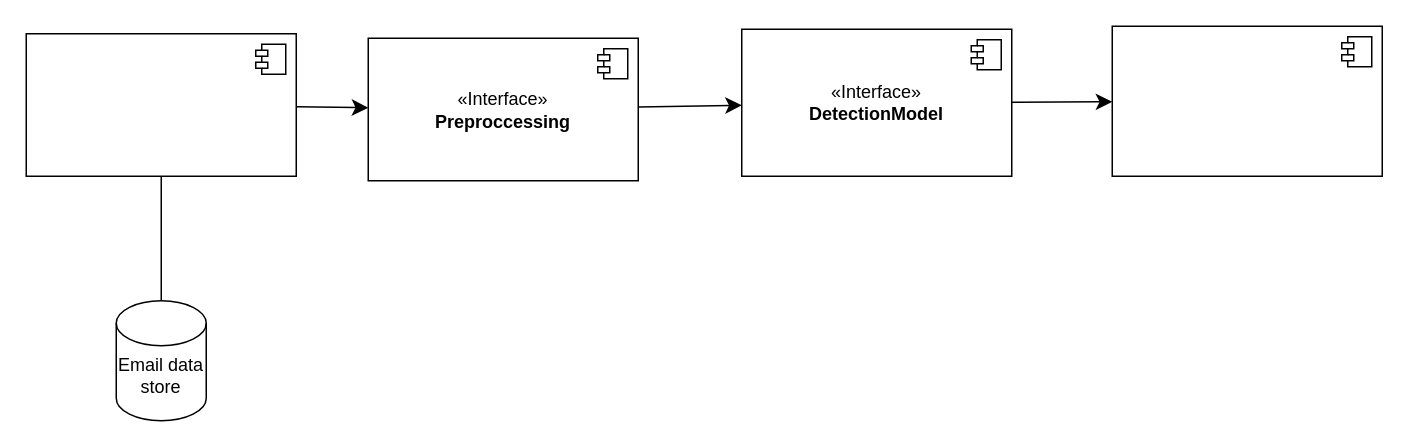
Some shapes in this 1409 by 447 pixel diagram are drawn without their labels. The shapes that lost their labels are listed below. From the top down, each one's centre as x and y in pixels, then its label:
At point (160, 104): "«Interface» User".
At point (1246, 100): "«Interface» PredictionView".
